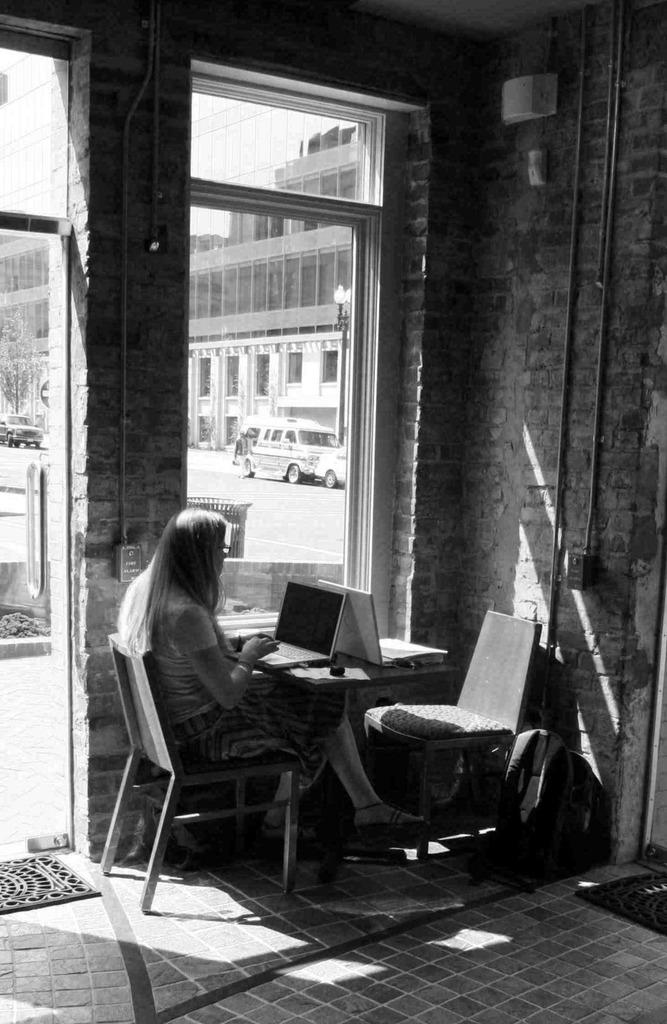Table: (258, 620, 453, 841)
